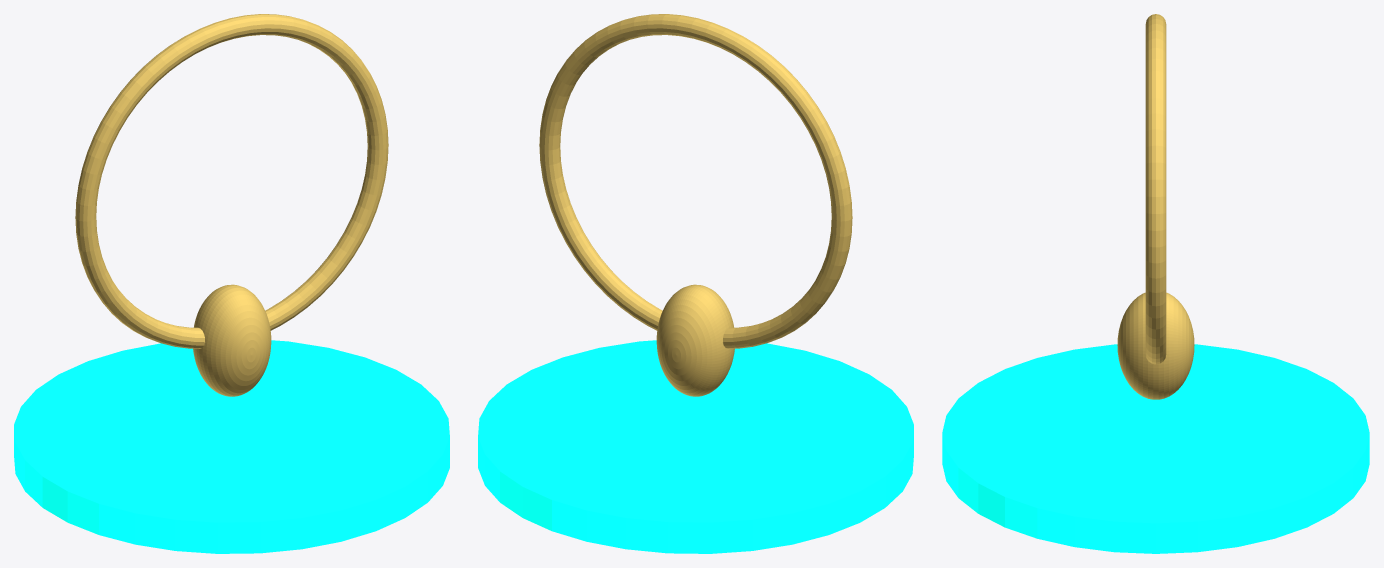
Rendered from fashion_necklace.glb.
3 renders of one model, left to right at view 1: azimuth 30°, elevation 25°; view 2: azimuth 150°, elevation 25°; view 3: azimuth 270°, elevation 25°, orthographic. The views are drawn at different scales.
Parts seen in each view (by area): view 1: 06_13_Popular_Fashion_Necklace_ROOT_base, 06_13_Popular_Fashion_Necklace_part_01, 06_13_Popular_Fashion_Necklace_part_02; view 2: 06_13_Popular_Fashion_Necklace_ROOT_base, 06_13_Popular_Fashion_Necklace_part_01, 06_13_Popular_Fashion_Necklace_part_02; view 3: 06_13_Popular_Fashion_Necklace_ROOT_base, 06_13_Popular_Fashion_Necklace_part_01, 06_13_Popular_Fashion_Necklace_part_02.
Boxes of the visible parts, box(x1,y1,x2,y2) form: 06_13_Popular_Fashion_Necklace_ROOT_base: box(14, 340, 449, 553); 06_13_Popular_Fashion_Necklace_part_01: box(75, 14, 388, 348); 06_13_Popular_Fashion_Necklace_part_02: box(193, 284, 271, 396); 06_13_Popular_Fashion_Necklace_ROOT_base: box(478, 340, 913, 553); 06_13_Popular_Fashion_Necklace_part_01: box(539, 14, 852, 348); 06_13_Popular_Fashion_Necklace_part_02: box(656, 284, 734, 396); 06_13_Popular_Fashion_Necklace_ROOT_base: box(942, 344, 1369, 553); 06_13_Popular_Fashion_Necklace_part_01: box(1145, 14, 1166, 364); 06_13_Popular_Fashion_Necklace_part_02: box(1117, 292, 1194, 399).
Bounding box in the file's own units: 0.76 × 0.85 × 0.76.
